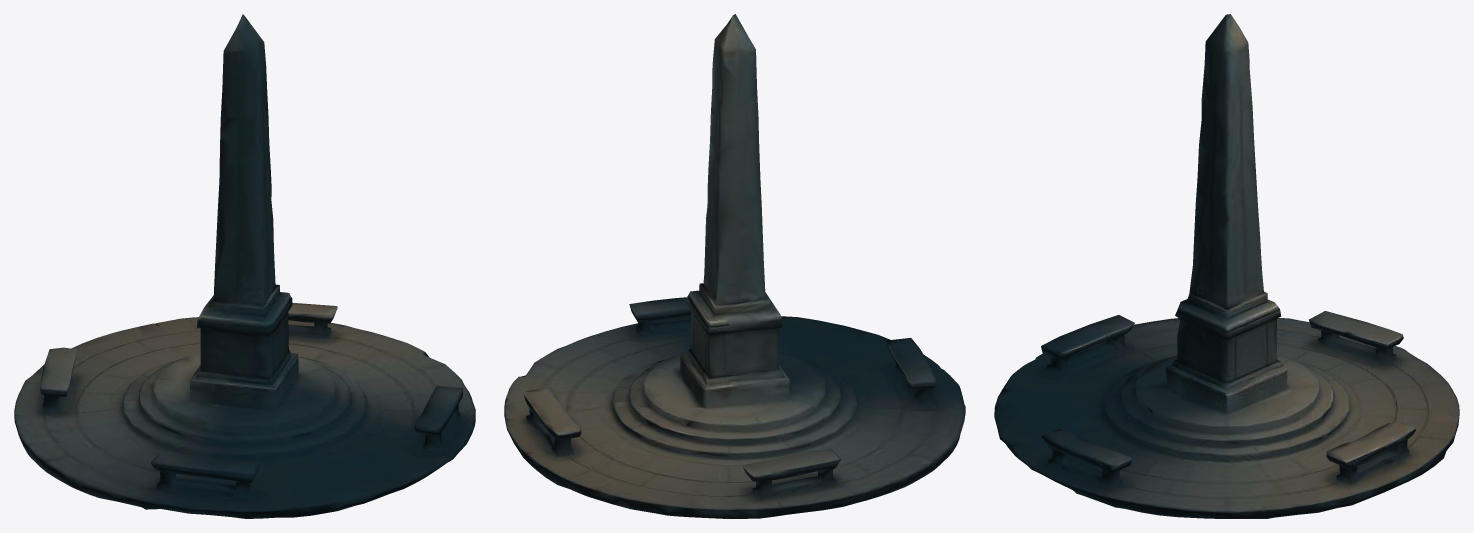
File: 3d-pomnik-kolonii.glb
The picture shows the model from 3 angles, left to right: view 1: azimuth 30°, elevation 25°; view 2: azimuth 150°, elevation 25°; view 3: azimuth 270°, elevation 25°; orthographic projection.
Visible parts, largest first — view 1: tripo_node_be4e51bb-b96d-4db5-9ff6-8ec103ea0352; view 2: tripo_node_be4e51bb-b96d-4db5-9ff6-8ec103ea0352; view 3: tripo_node_be4e51bb-b96d-4db5-9ff6-8ec103ea0352.
Boxes of the visible parts, bbox=[...] form: tripo_node_be4e51bb-b96d-4db5-9ff6-8ec103ea0352: bbox=[14, 14, 475, 518]; tripo_node_be4e51bb-b96d-4db5-9ff6-8ec103ea0352: bbox=[504, 14, 965, 518]; tripo_node_be4e51bb-b96d-4db5-9ff6-8ec103ea0352: bbox=[994, 14, 1459, 518].
Bounding box in the file's own units: 0.9967 × 0.9778 × 1.
Materials: 1 (1 with a texture image).
